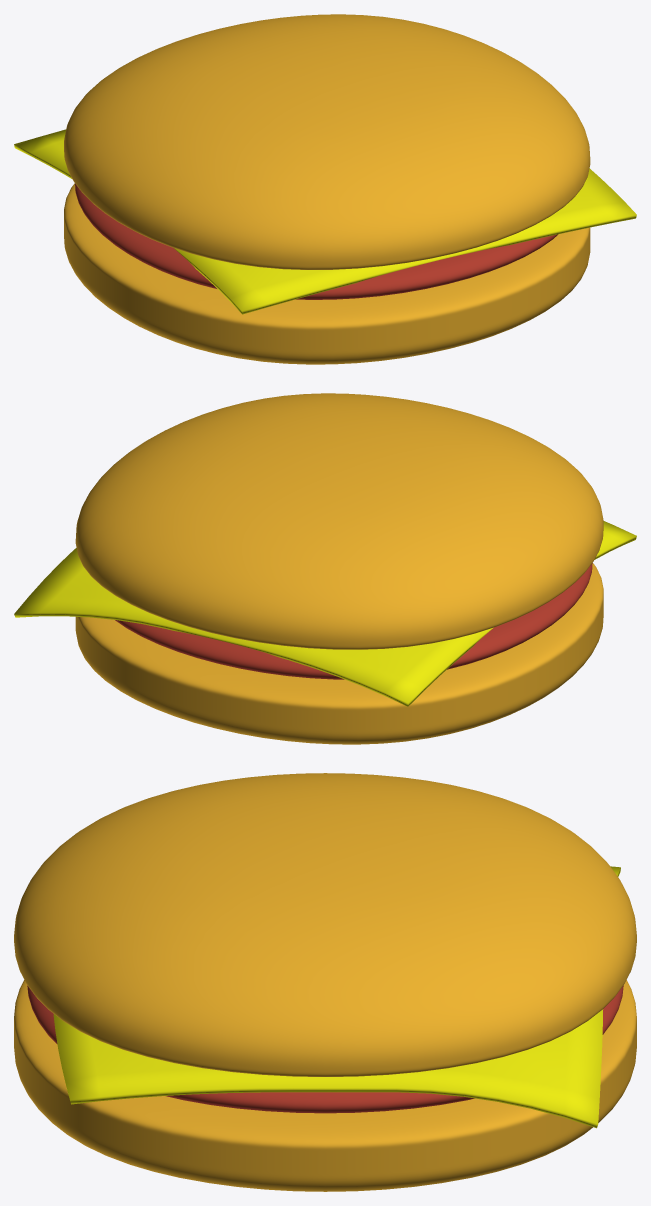
Rendered from hamburger.glb.
3 renders of one model, top to bottom at view 1: azimuth 30°, elevation 25°; view 2: azimuth 150°, elevation 25°; view 3: azimuth 270°, elevation 25°, orthographic. The views are drawn at different scales.
Parts seen in each view (by area): view 1: 立方体.002, 立方体.003, 平面, 立方体; view 2: 立方体.002, 立方体.003, 平面, 立方体; view 3: 立方体.002, 立方体.003, 平面, 立方体.
Boxes of the visible parts, box(x1,y1,x2,y2) form: 立方体.002: box(64, 14, 590, 269); 立方体.003: box(64, 183, 590, 364); 平面: box(14, 129, 636, 314); 立方体: box(75, 183, 557, 299); 立方体.002: box(75, 393, 603, 649); 立方体.003: box(75, 563, 603, 744); 平面: box(14, 521, 636, 706); 立方体: box(115, 563, 592, 679); 立方体.002: box(14, 773, 636, 1076); 立方体.003: box(14, 980, 636, 1191); 平面: box(53, 866, 620, 1128); 立方体: box(27, 985, 623, 1113).
Bounding box in the file's own units: 9.17 × 4.03 × 9.17.
